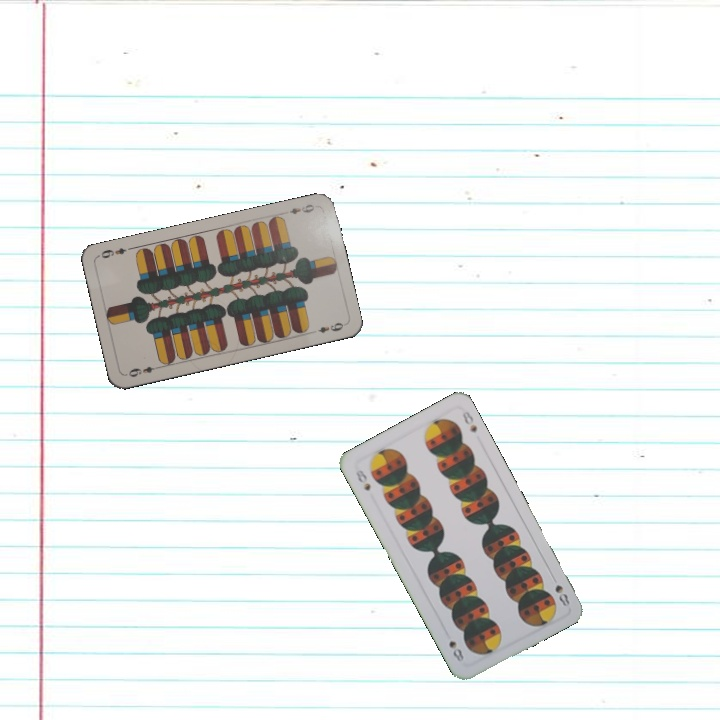E9: (123, 362, 163, 380), (285, 200, 317, 217)
S8: (351, 466, 373, 494), (551, 581, 572, 609)
